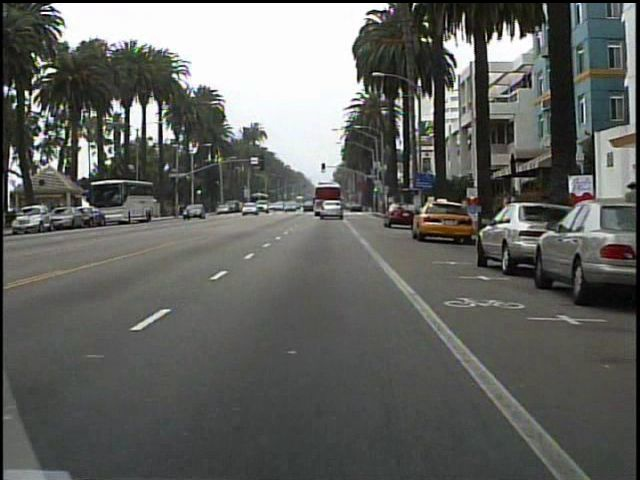person: (613, 172, 637, 243)
